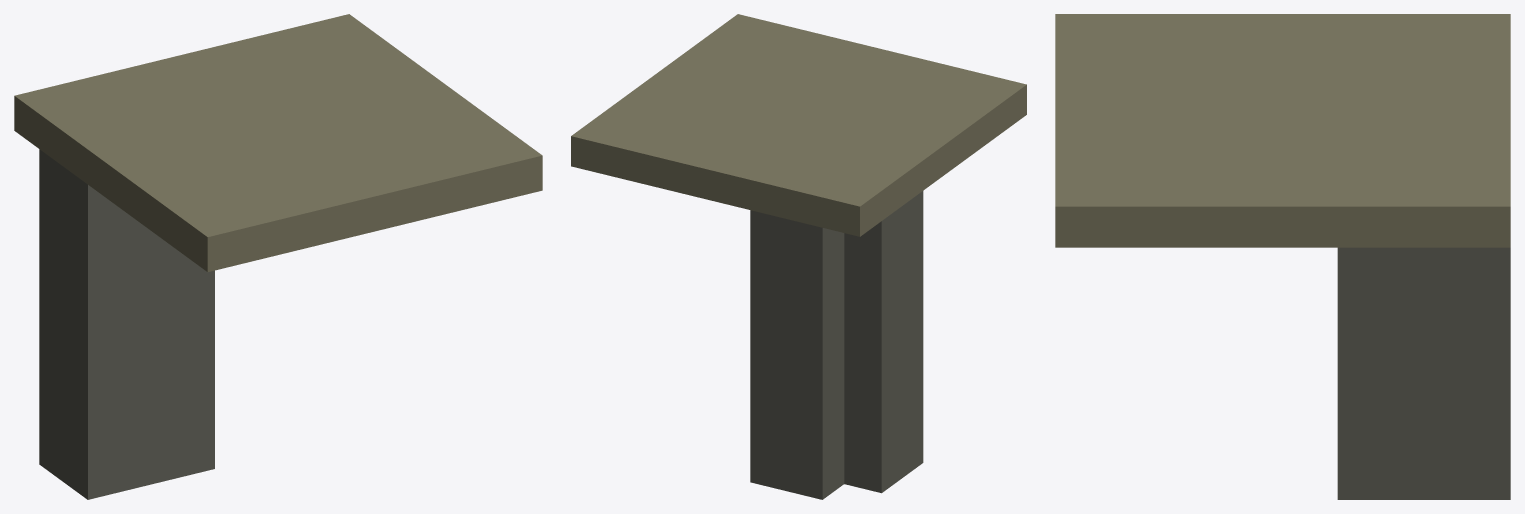
Rendered from M_Floor05.fbx.
3 renders of one model, left to right at view 1: azimuth 30°, elevation 25°; view 2: azimuth 150°, elevation 25°; view 3: azimuth 270°, elevation 25°, orthographic. The views are drawn at different scales.
Visible parts, largest first — view 1: M_Floor05; view 2: M_Floor05; view 3: M_Floor05.
Boxes of the visible parts, x1=… form: M_Floor05: x1=14, y1=14, x2=542, y2=499; M_Floor05: x1=571, y1=14, x2=1026, y2=499; M_Floor05: x1=1055, y1=14, x2=1510, y2=499.
Size of the model in its own units: 100 by 100 by 100.
